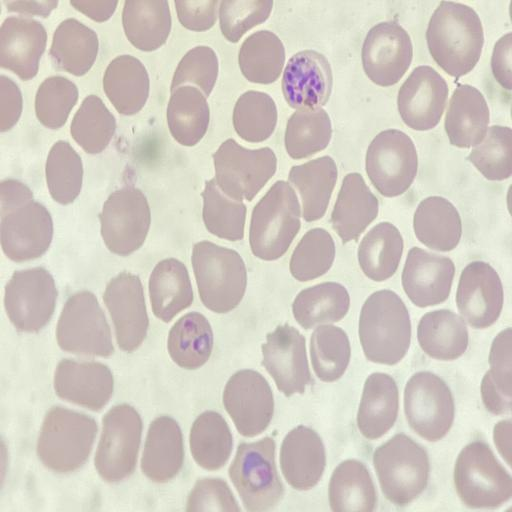Infected: (230, 438, 284, 507), (281, 51, 332, 110), (167, 312, 213, 369)
Uninfected: (247, 181, 301, 259), (36, 406, 97, 474), (427, 2, 483, 75), (55, 291, 114, 360), (211, 138, 277, 199), (191, 242, 247, 313), (372, 434, 427, 504), (359, 290, 410, 365), (101, 273, 149, 352), (94, 404, 143, 480), (453, 441, 508, 507), (99, 187, 151, 254), (221, 371, 273, 437), (4, 269, 56, 334), (403, 372, 453, 439), (261, 326, 311, 393), (1, 199, 54, 262), (365, 130, 417, 194), (455, 262, 503, 329), (289, 156, 337, 222), (361, 21, 412, 83), (401, 248, 455, 306), (140, 414, 186, 482), (53, 358, 111, 411), (278, 425, 326, 489), (397, 67, 446, 129), (331, 173, 376, 240), (200, 182, 247, 245), (1, 16, 48, 79), (50, 18, 100, 77), (357, 372, 401, 439), (148, 259, 194, 323), (102, 54, 151, 114), (291, 281, 348, 332), (288, 226, 337, 284), (444, 84, 489, 147), (412, 196, 461, 253), (70, 94, 116, 154), (166, 84, 211, 145), (170, 46, 220, 100), (357, 222, 404, 279), (237, 30, 285, 85), (416, 309, 467, 360), (188, 412, 232, 470), (284, 105, 332, 158), (328, 460, 377, 511), (308, 324, 351, 382), (45, 141, 84, 204), (233, 90, 279, 143), (122, 1, 171, 50), (469, 126, 512, 181), (36, 75, 79, 129), (217, 1, 271, 41), (186, 481, 240, 511), (0, 179, 36, 223), (176, 1, 221, 33)
